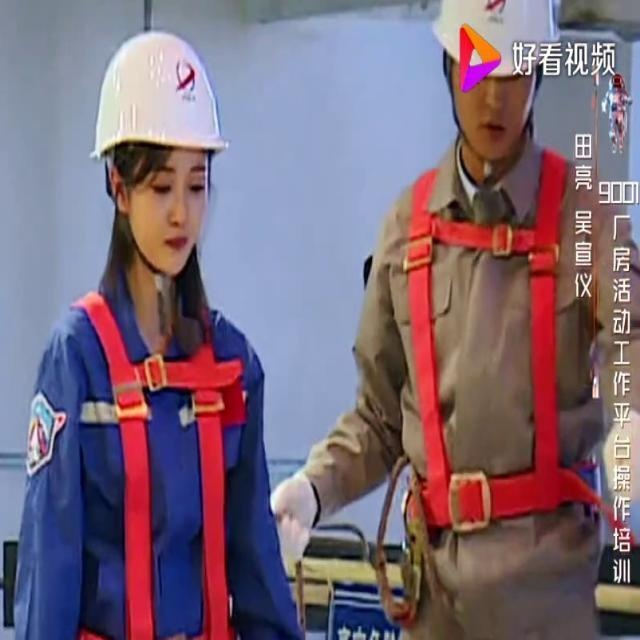Arnes_seguridad: (394, 132, 572, 543), (64, 274, 249, 639)
